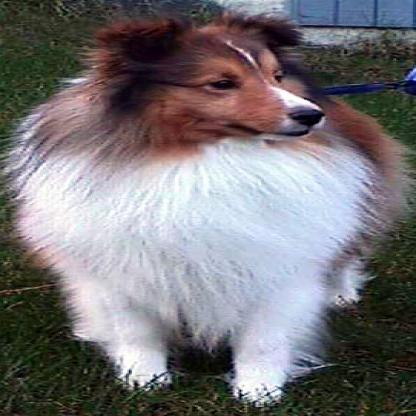Shetland_sheepdog: (0, 8, 411, 407)
